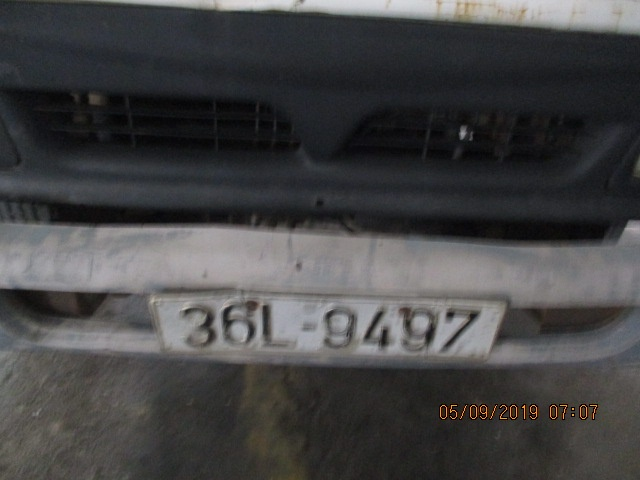number_plate: (170, 298, 484, 356)
